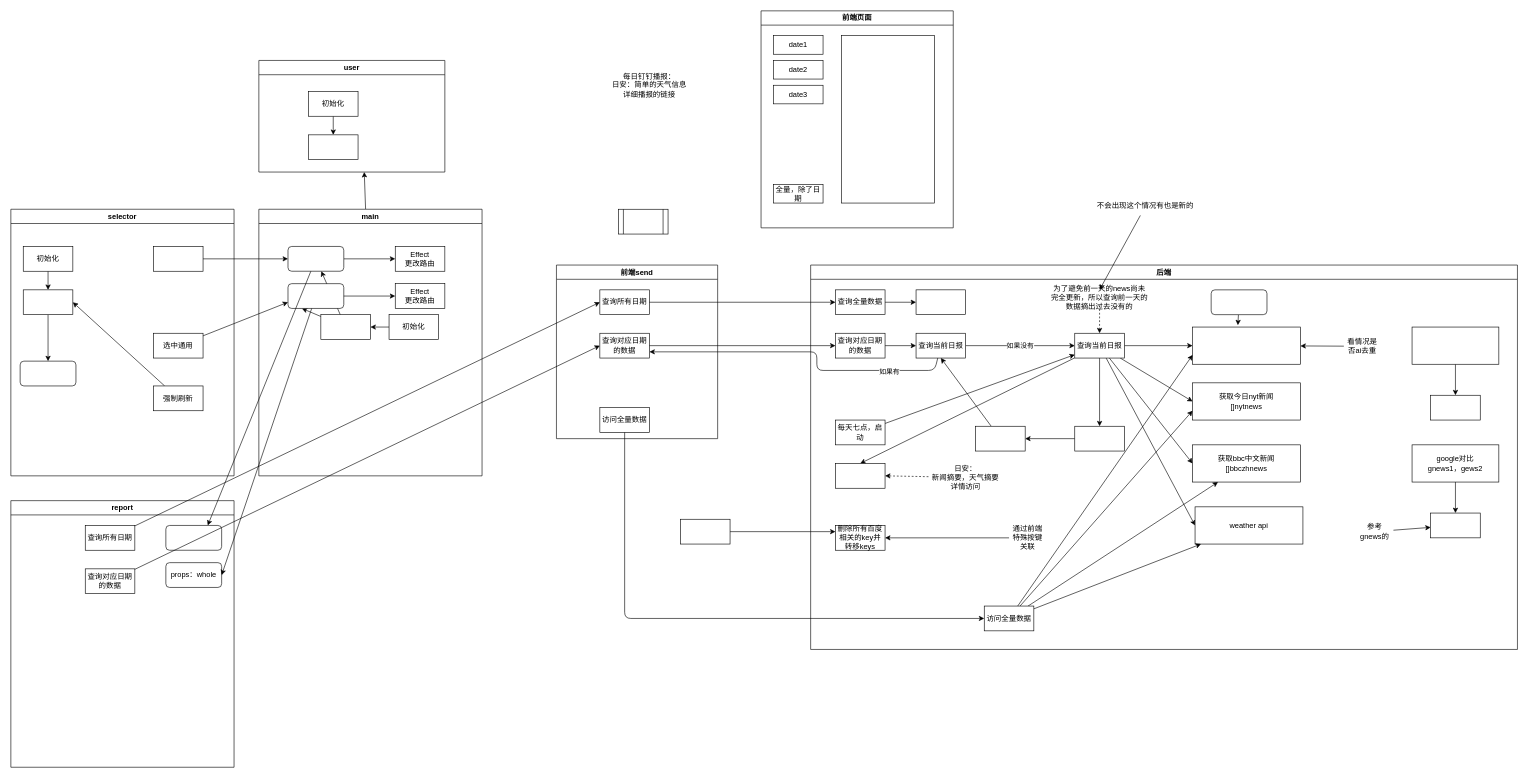
Image size: 1528x778. Some labels were removed from this diagram. Each missing label, with the centre of its shape:
ai进行翻译: the point at 1099,438
api: the point at 705,531
google去重 gnews1，gews2: the point at 1455,345
keys: the point at 1239,302
props：selected: the point at 193,537
states 渲染-列表: the point at 48,373
states：selected: the point at 315,258
states：whole: the point at 315,295
全量根据时间、名称对比: the point at 1455,407
加载列表: the point at 48,302
强制要求登录: the point at 333,147
推送到dingding: the point at 860,475
插入数据到xstorage: the point at 1000,438
根据标题进行重复度计算: the point at 1455,525
获取谷歌新闻 keys,lan->map[key]googlenews: the point at 1246,345
访问xstorage: the point at 940,302
读取路由的select: the point at 345,326
选中: the point at 178,258
